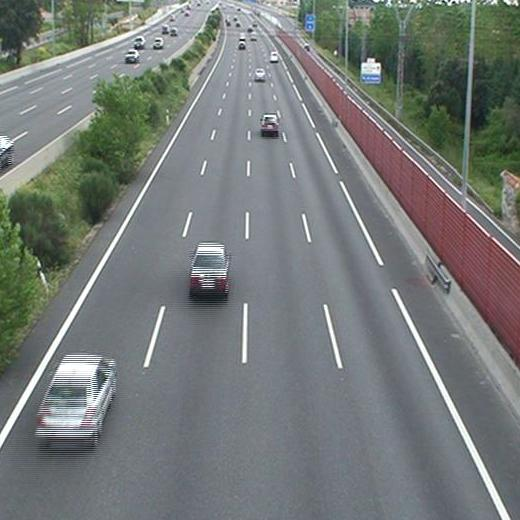car: (35, 356, 114, 438), (190, 244, 228, 292), (261, 114, 278, 133), (254, 69, 265, 80), (270, 52, 278, 61), (237, 42, 245, 49)
